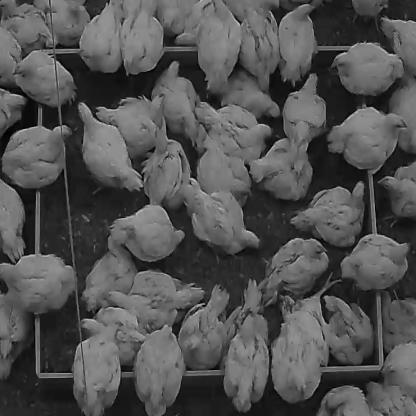chicken: (76, 100, 143, 194), (184, 176, 260, 258), (223, 278, 269, 413), (270, 299, 328, 404), (282, 270, 341, 366), (178, 283, 241, 370), (109, 270, 204, 326), (327, 106, 407, 172), (257, 236, 329, 306), (133, 322, 185, 416), (289, 181, 365, 245), (0, 123, 72, 188), (95, 92, 164, 159), (194, 100, 271, 160), (72, 322, 121, 416), (0, 252, 74, 314), (142, 115, 191, 206), (282, 71, 326, 171), (110, 203, 185, 261), (81, 240, 138, 315), (197, 0, 242, 93), (151, 60, 200, 142), (330, 41, 404, 95), (250, 138, 312, 201), (340, 233, 407, 291), (322, 292, 375, 364), (12, 49, 76, 107), (277, 3, 318, 86), (241, 4, 279, 92), (92, 306, 145, 368), (79, 0, 122, 73), (121, 0, 162, 75), (218, 68, 280, 117), (0, 0, 54, 55), (0, 292, 34, 376), (32, 0, 90, 44), (379, 160, 415, 226), (0, 176, 26, 264), (381, 291, 416, 352), (381, 14, 416, 74), (381, 342, 416, 398), (173, 0, 216, 45), (365, 380, 415, 416), (392, 80, 416, 154), (317, 384, 371, 416), (158, 0, 203, 37), (0, 25, 22, 86), (0, 87, 26, 137), (223, 0, 278, 23), (351, 0, 388, 22)
